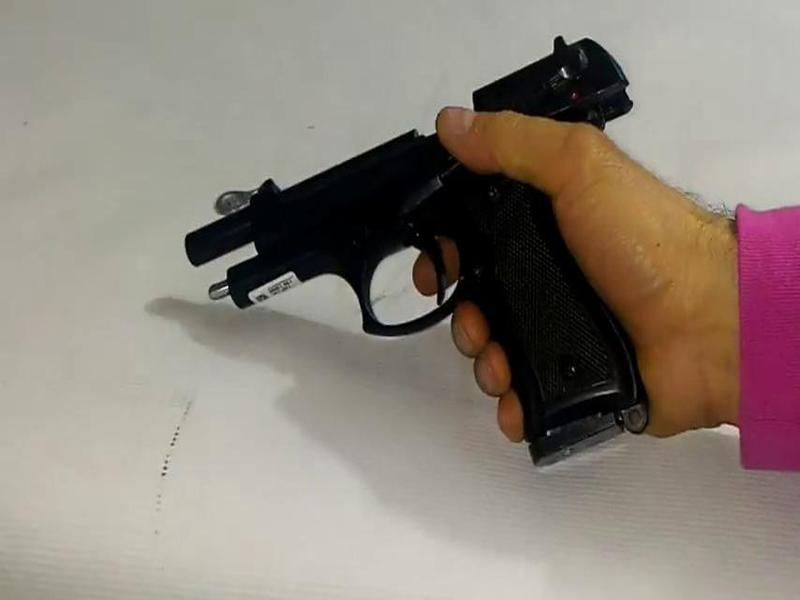Pistola: (164, 26, 675, 468)
